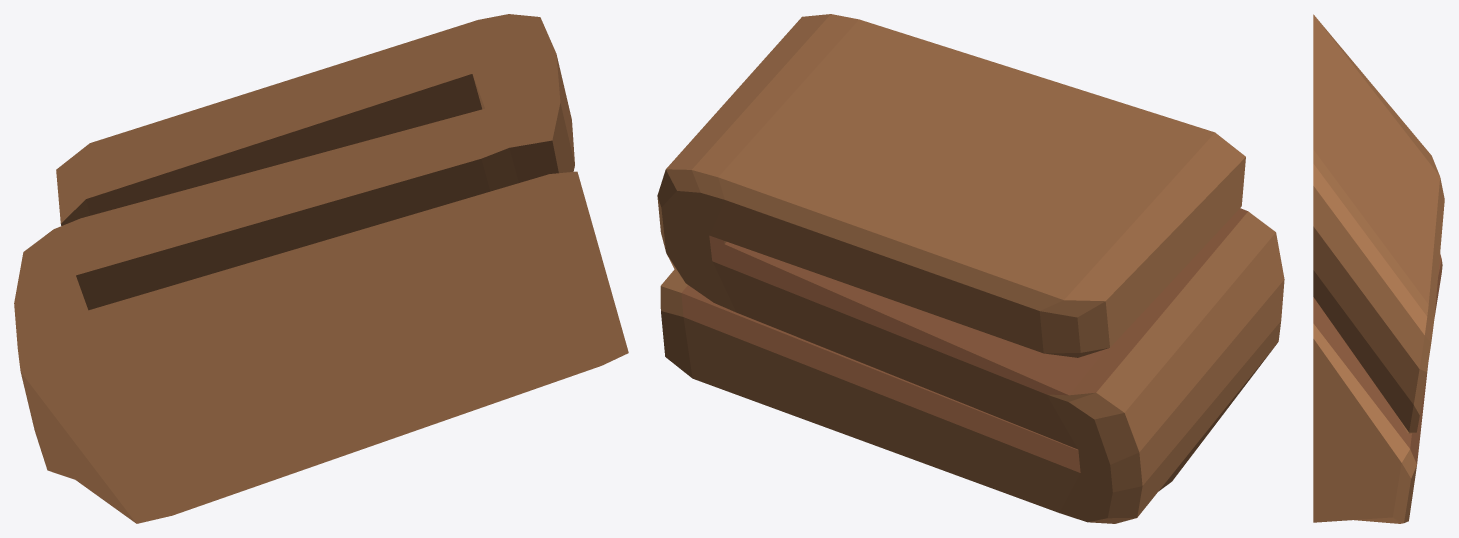
Rendered from icon_linen.fbx.
3 renders of one model, left to right at view 1: azimuth 30°, elevation 25°; view 2: azimuth 150°, elevation 25°; view 3: azimuth 270°, elevation 25°, orthographic. The views are drawn at different scales.
Visible parts, largest first — view 1: icon_linen; view 2: icon_linen; view 3: icon_linen.
Part boxes in pixels (<box>): icon_linen: <box>14,14,628,523</box>; icon_linen: <box>657,14,1284,523</box>; icon_linen: <box>1313,14,1444,523</box>.
Size of the model in its own units: 38.89 by 25.05 by 8.39.
